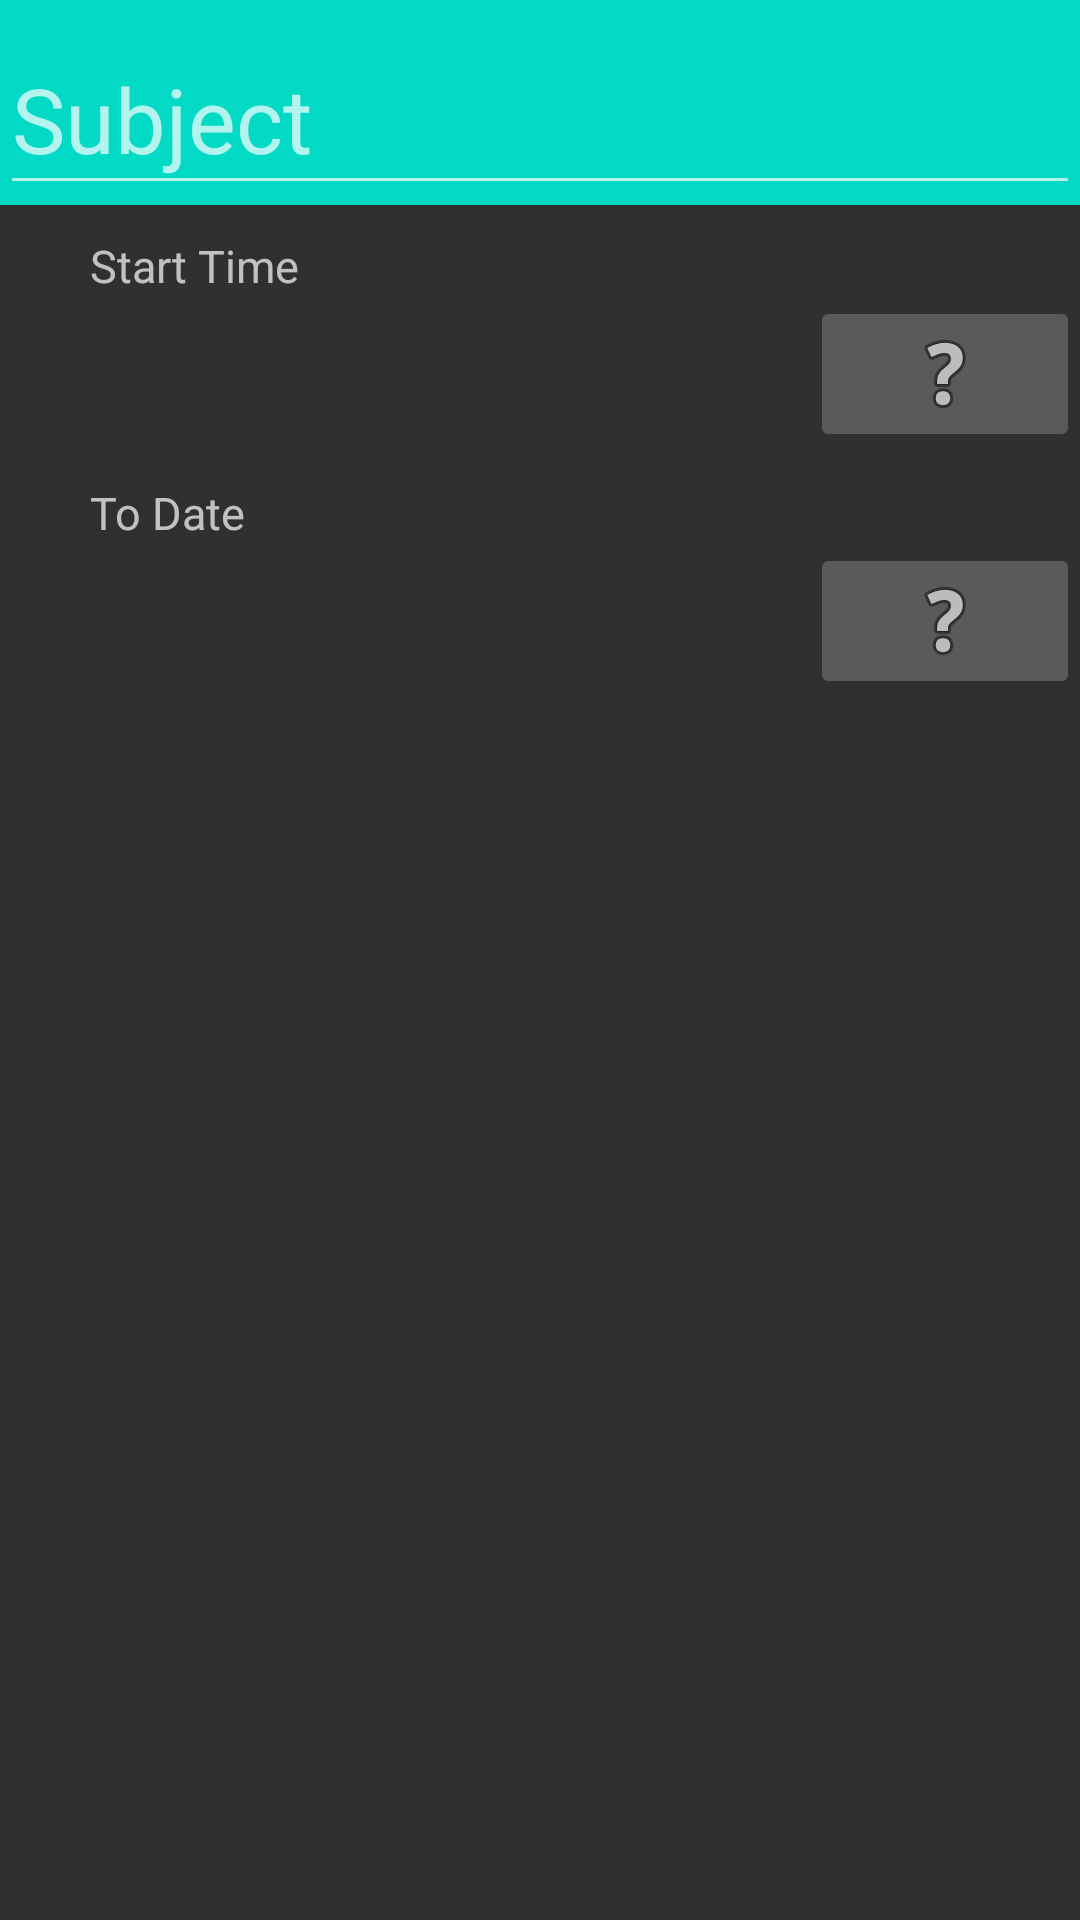

Where to tap for icons on this 1080w x 1920h app screen, as [x,y]:
help: [945,374], [945,621]
